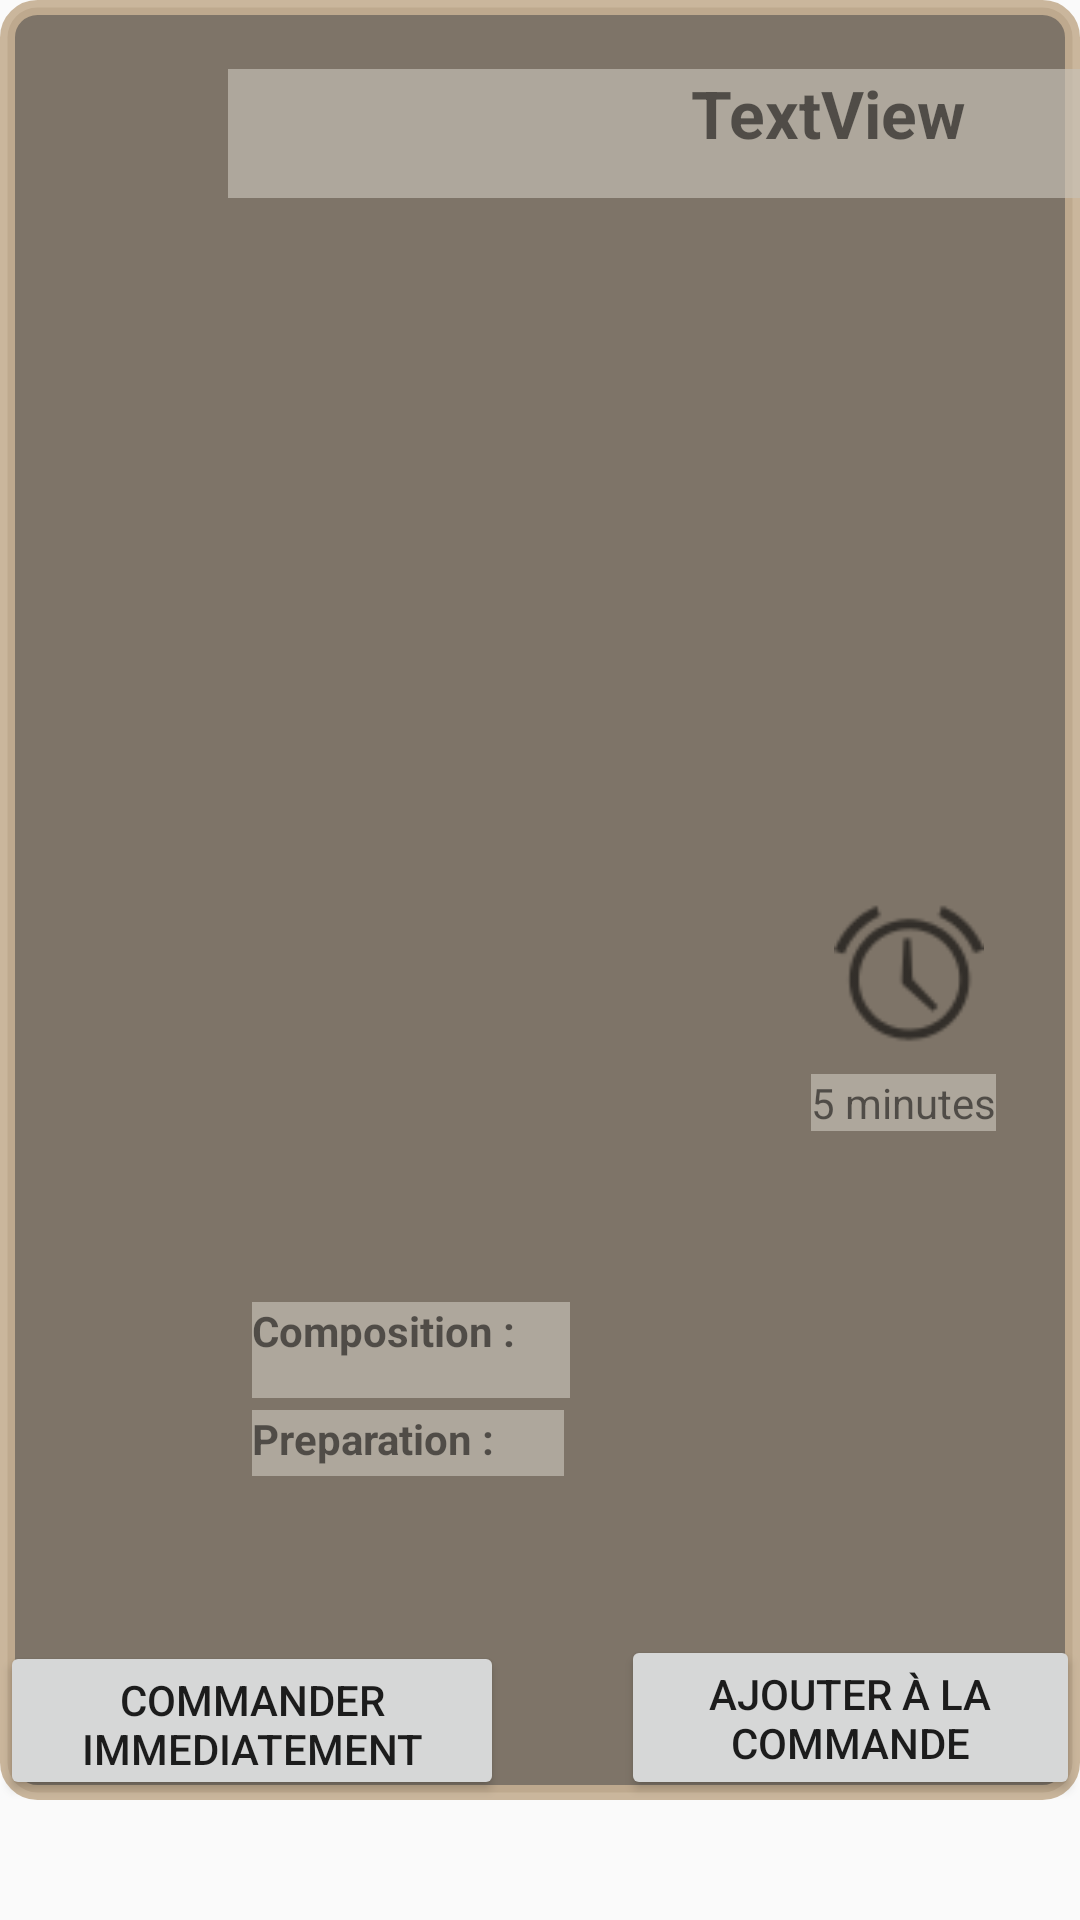

Icon click points for this 1080x1920 phone screenshot, format [x,y]:
lock idle alarm: [909,973]
